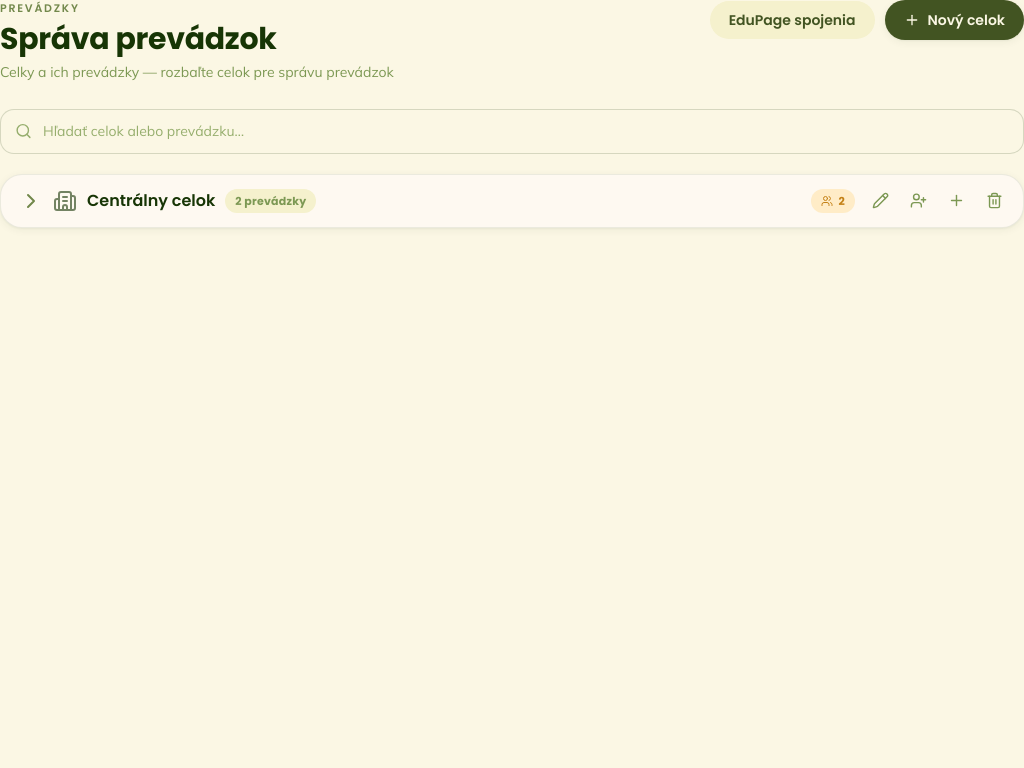
FacilityManager celok delete › shows the backend's friendly error when a celok delete is blocked by existing prevádzky
Click the button named "Vymazať celok Centrálny celok" at [994, 201], box [977, 184, 1011, 218]
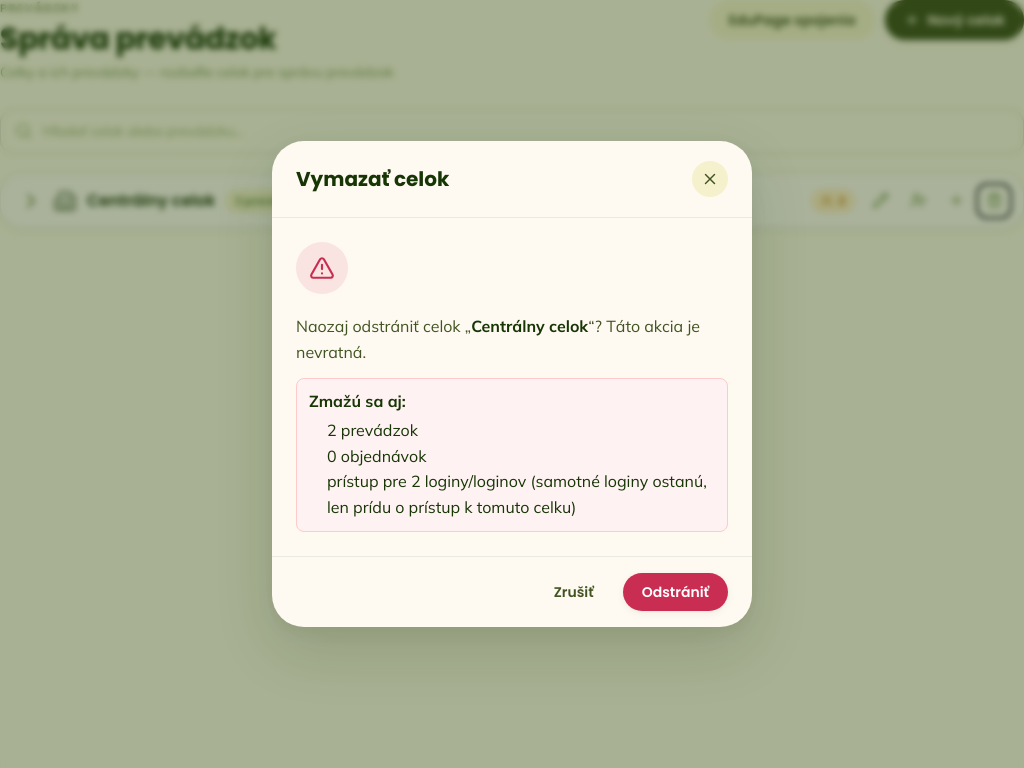
Click the button "Odstrániť" at [675, 592], box [623, 573, 728, 611]
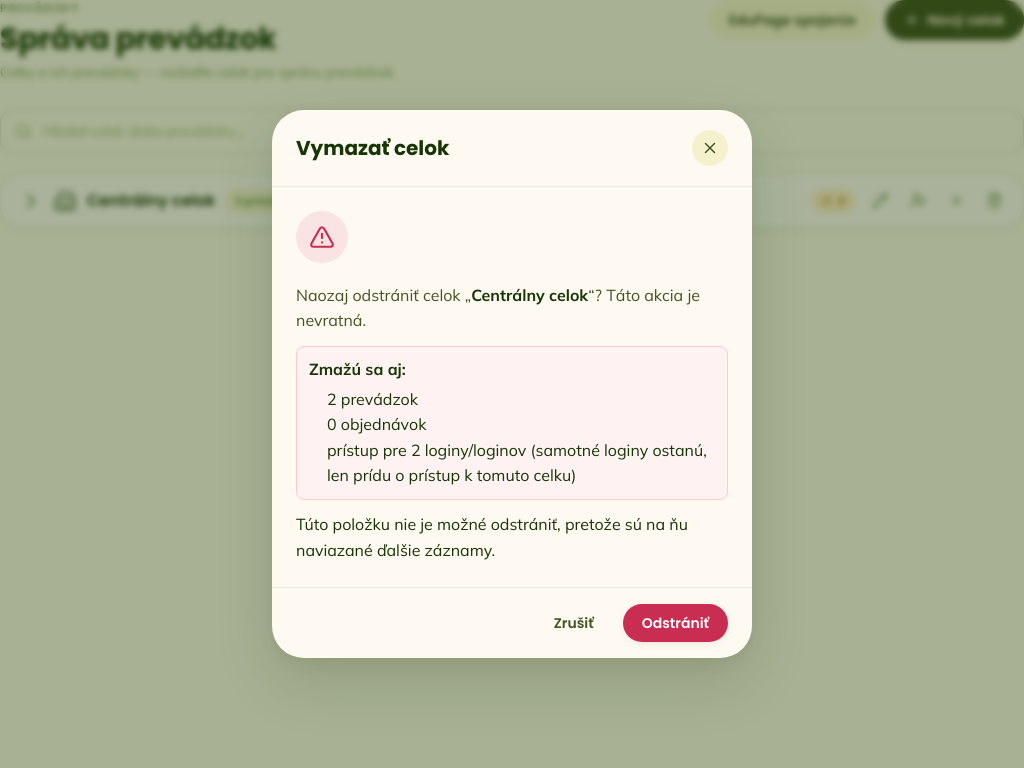
Check: the text "Naozaj odstrániť celok" is shown, box [296, 285, 471, 305]
Check: the message reads "Túto položku nie je možné odstrániť, pretože sú na ňu naviazané ďalšie záznamy.", box [296, 514, 688, 560]
